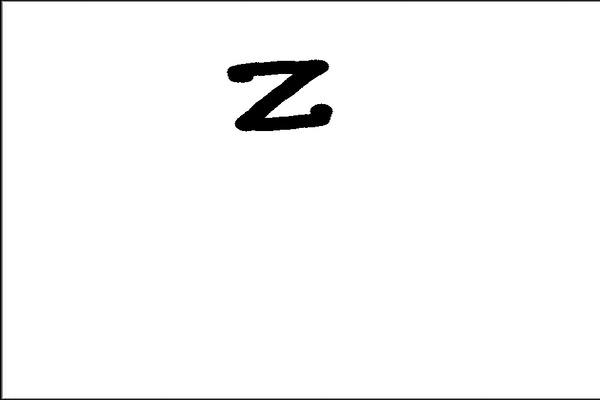Z: (219, 51, 346, 138)
